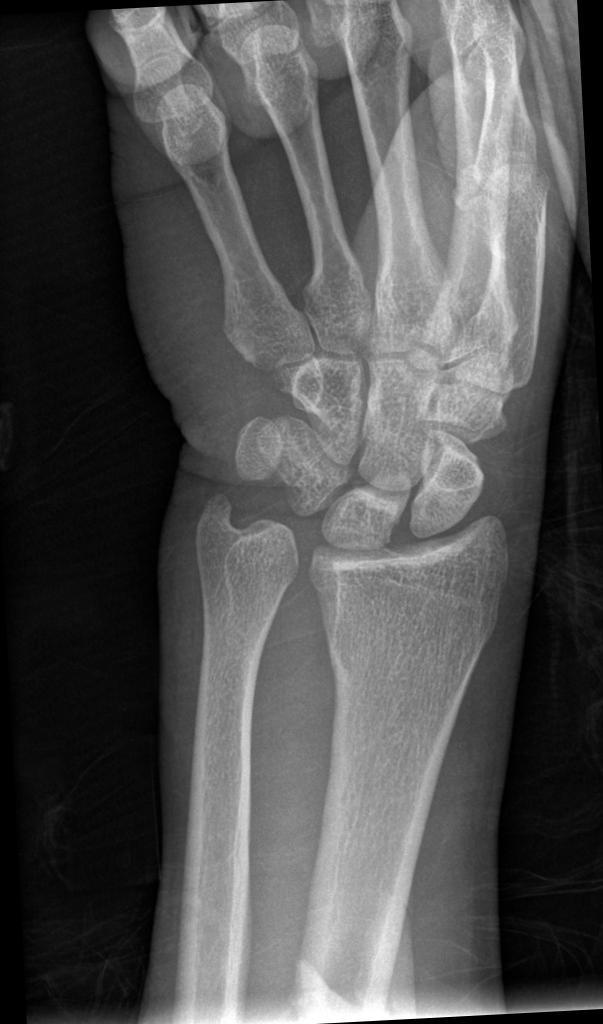fracture: (290, 940, 390, 1018)
